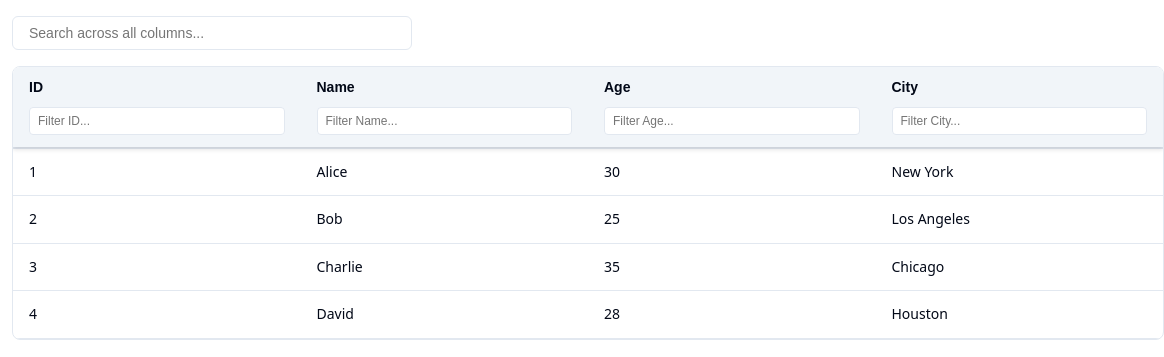
Test: InteractiveTable › Column Sorting › should sort by column in ascending order
Note: Click on Age column header
What coordinates should you click on to do the following:
click the button "Age"
I would click on:
 (732, 87)
Its box is [604, 79, 860, 95].
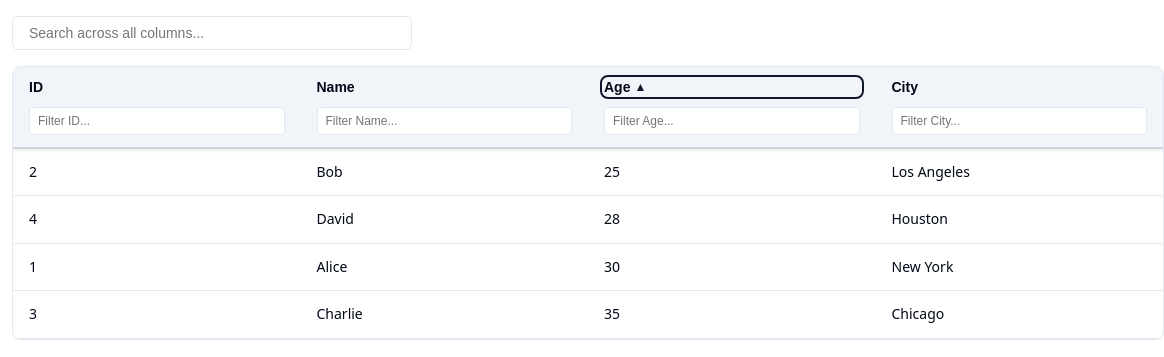
Expected: the text "25" is shown, [588, 148, 876, 196]
Expected: the text "28" is shown, [588, 196, 876, 243]
Expected: the text "30" is shown, [588, 243, 876, 291]
